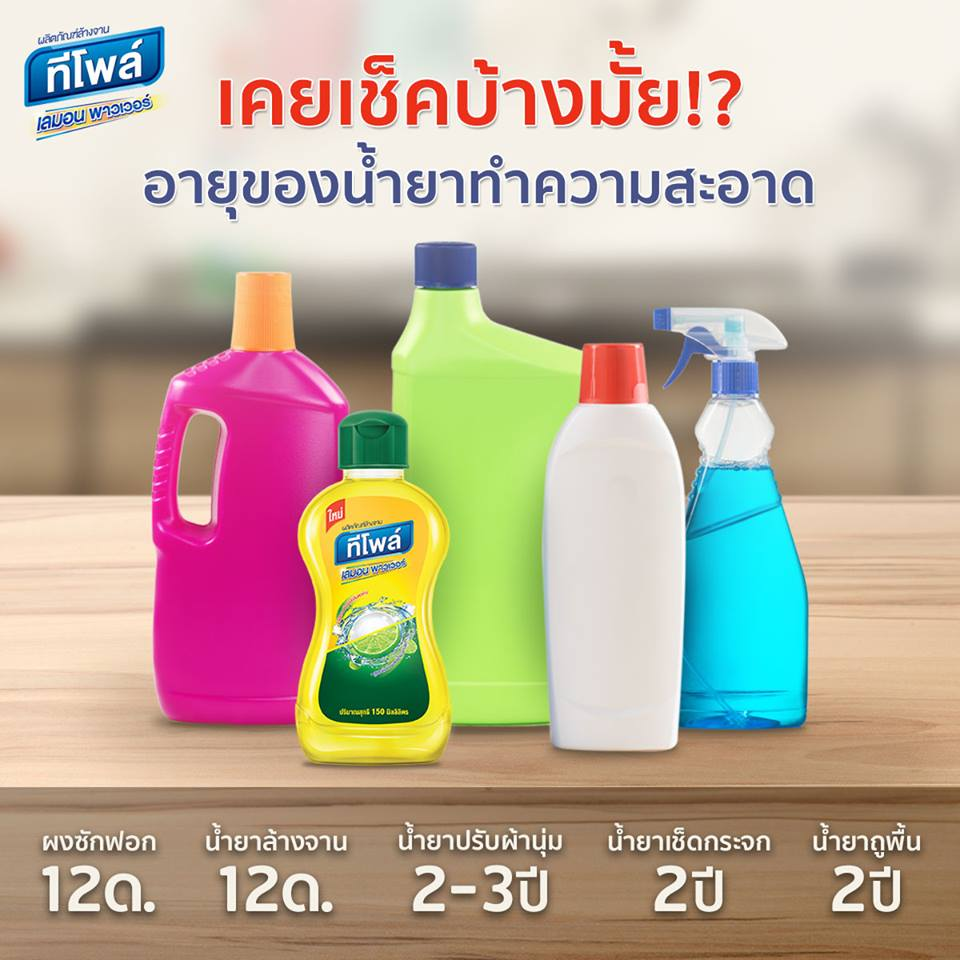Cleaning_solution: (379, 242, 610, 744), (142, 260, 354, 738), (648, 297, 815, 740), (537, 337, 686, 760), (293, 399, 456, 773)
